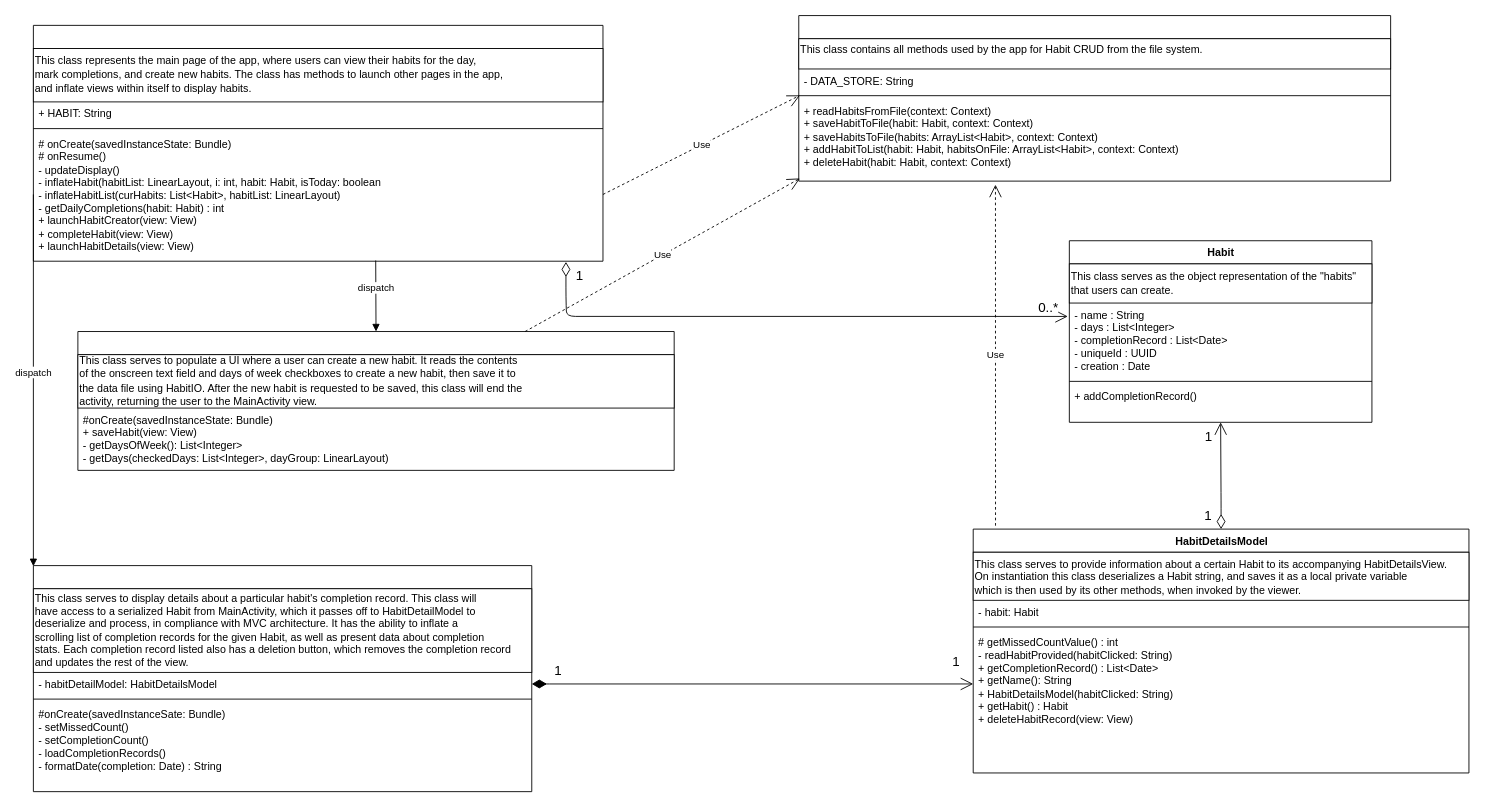
Some shapes in this 1485 by 807 pixel diagram are drawn without their labels. Each missing label, with the box of its shape:
AddHabitView: (77, 331, 674, 470)
HabitDetailsView: (32, 565, 532, 792)
HabitIO: (798, 15, 1391, 181)
MainActivity: (32, 24, 603, 261)
